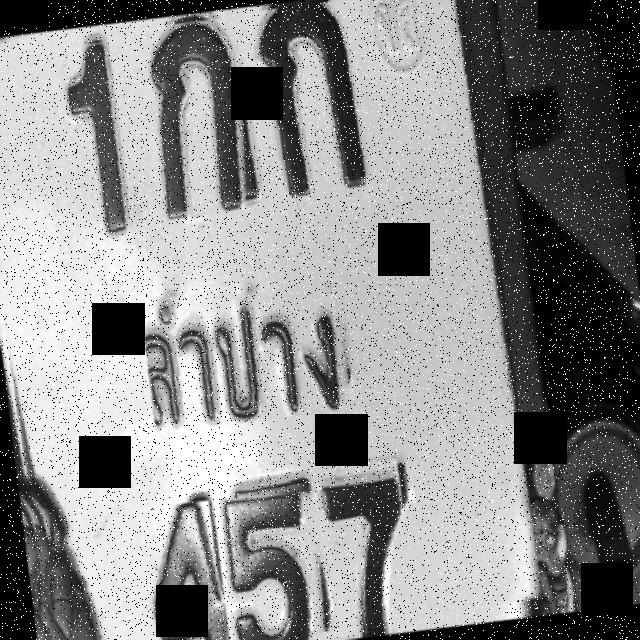letters: (135, 15, 261, 222), (246, 0, 375, 200), (32, 38, 150, 255), (313, 457, 418, 640), (212, 487, 334, 640), (109, 500, 227, 640)
license-plate: (0, 0, 542, 640)
province: (139, 274, 356, 434)
